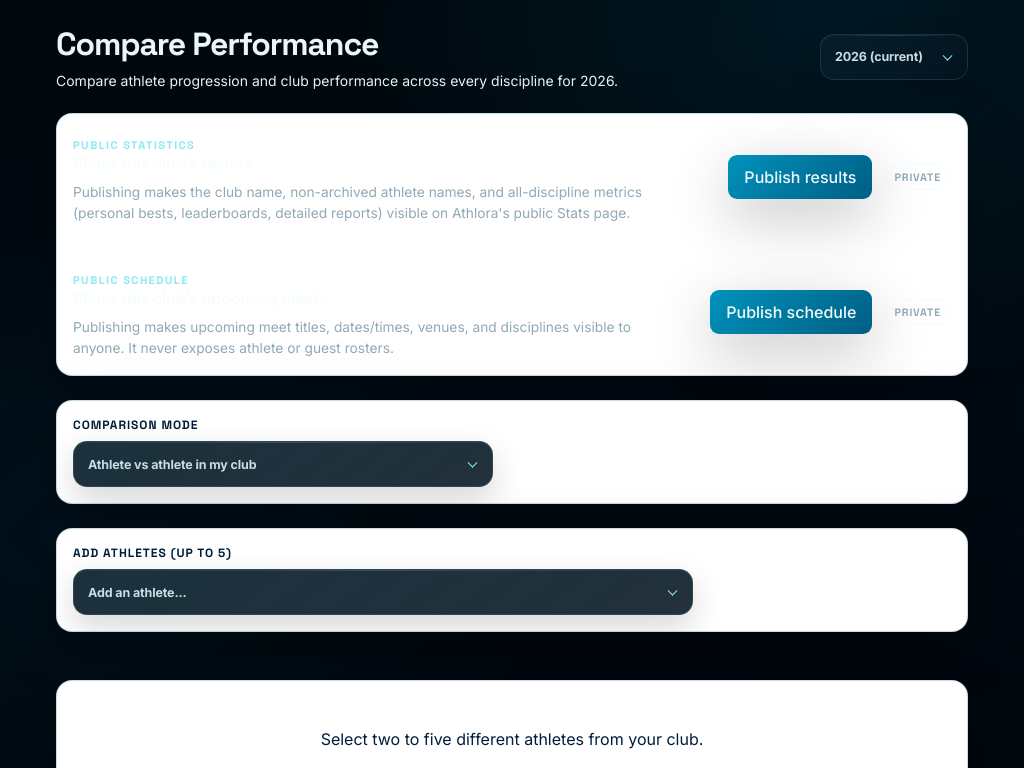
Test case: ComparisonPage › preloads athletes and filters them in the comparison picker
Step 1. Click the button with aria-label "Add athlete to comparison" → (137, 592), box [74,570,692,614]
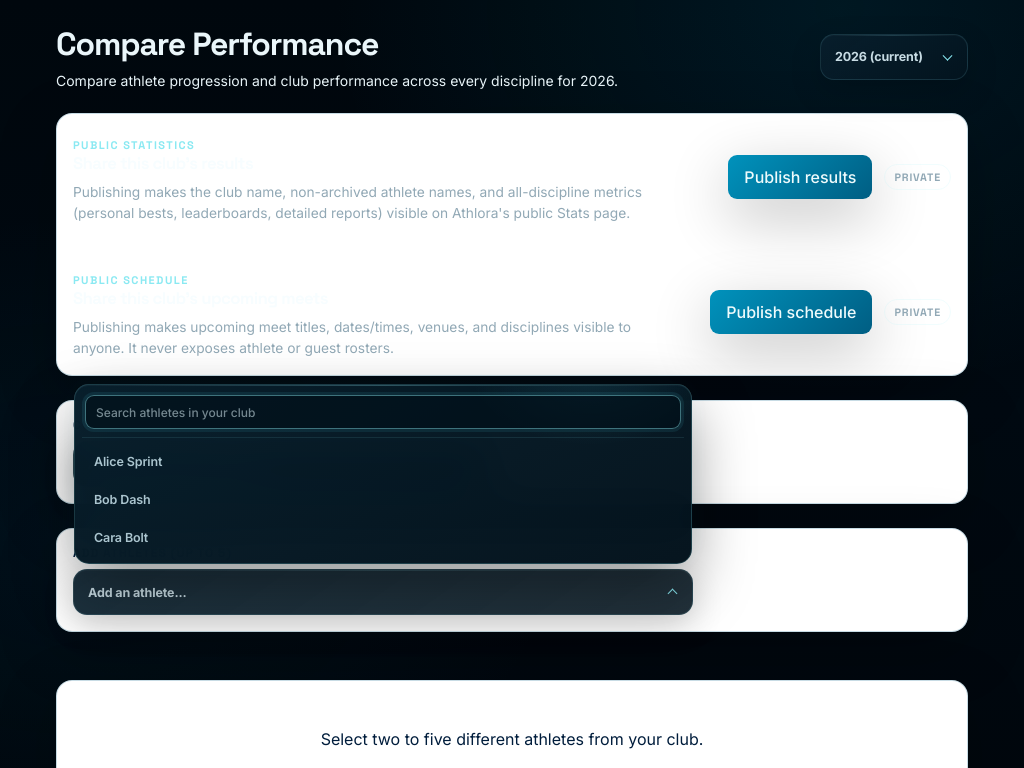
Step 2. Type "Al" into the search field labelled "Search athletes in your club" → (383, 412), box [85,395,681,429]
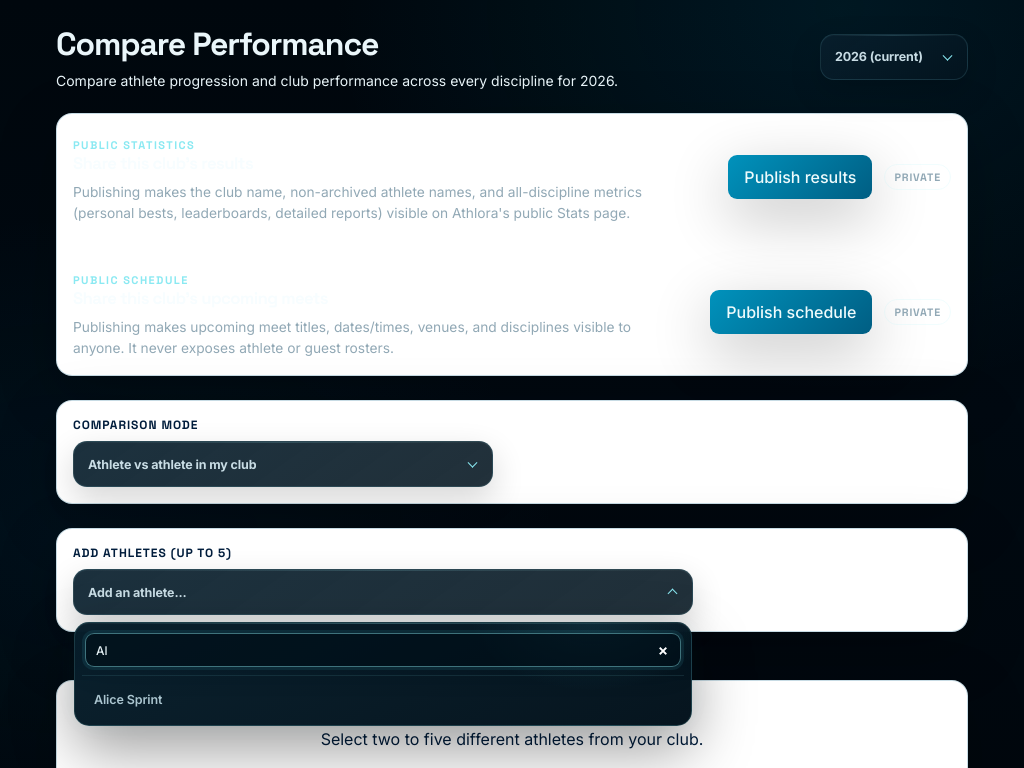
Step 3. Click the option "Alice Sprint" → (128, 699), box [82,680,684,718]
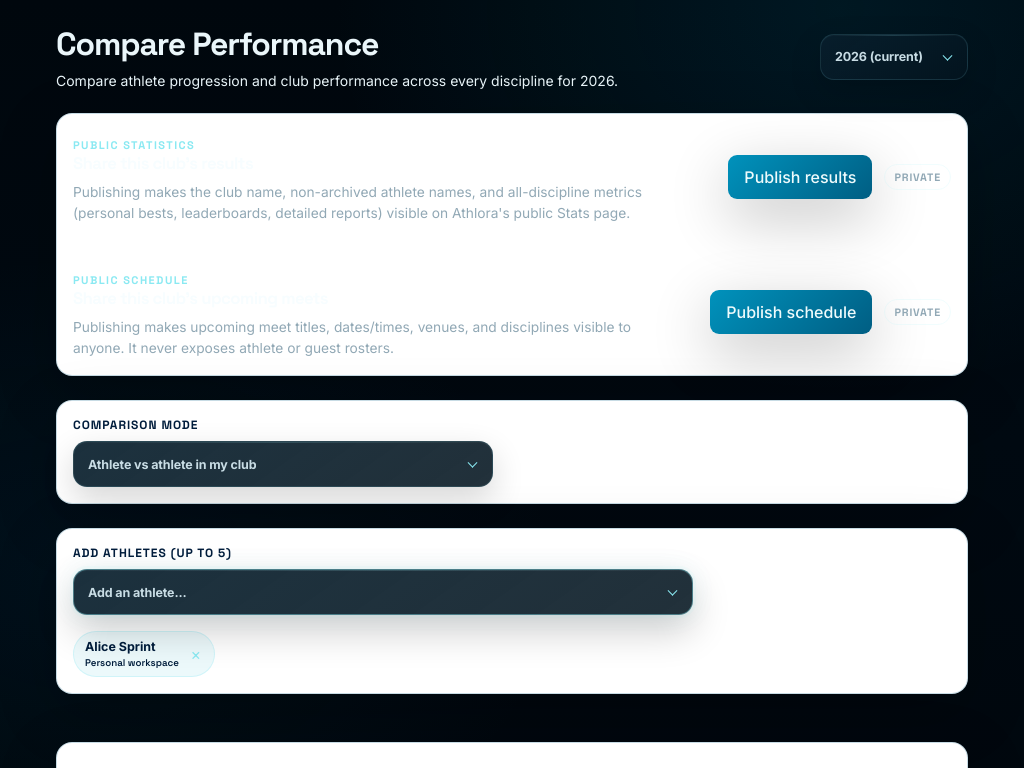
Expected: the list named "Selected athletes" shows "Alice Sprint", [85,639,156,654]
